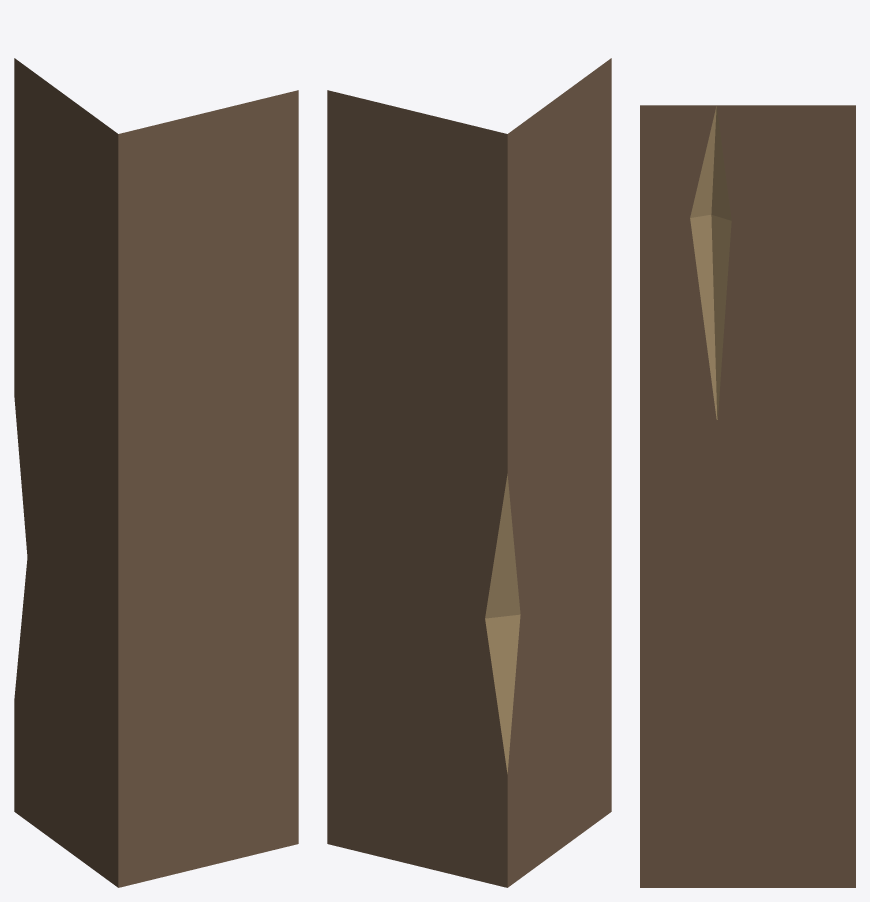
The model's file is Cave_Prop_Support_Wall_Pillar_3.glb.
3 views of the same model, side by side, from view 1: azimuth 30°, elevation 25°; view 2: azimuth 150°, elevation 25°; view 3: azimuth 270°, elevation 25° (orthographic). The views are drawn at different scales.
Parts seen in each view (by area): view 1: Cave_Prop_Support_Wall_Pillar_3; view 2: Cave_Prop_Support_Wall_Pillar_3; view 3: Cave_Prop_Support_Wall_Pillar_3.
Boxes of the visible parts, <box> form: Cave_Prop_Support_Wall_Pillar_3: <box>14,58,298,887</box>; Cave_Prop_Support_Wall_Pillar_3: <box>327,58,611,887</box>; Cave_Prop_Support_Wall_Pillar_3: <box>640,105,855,887</box>.
Bounding box in the file's own units: 0.25 × 1 × 0.25.
